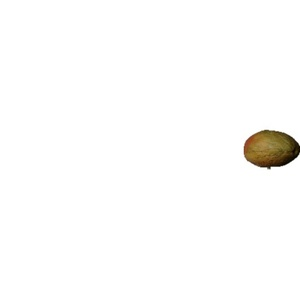mamão: (241, 128, 298, 170)
